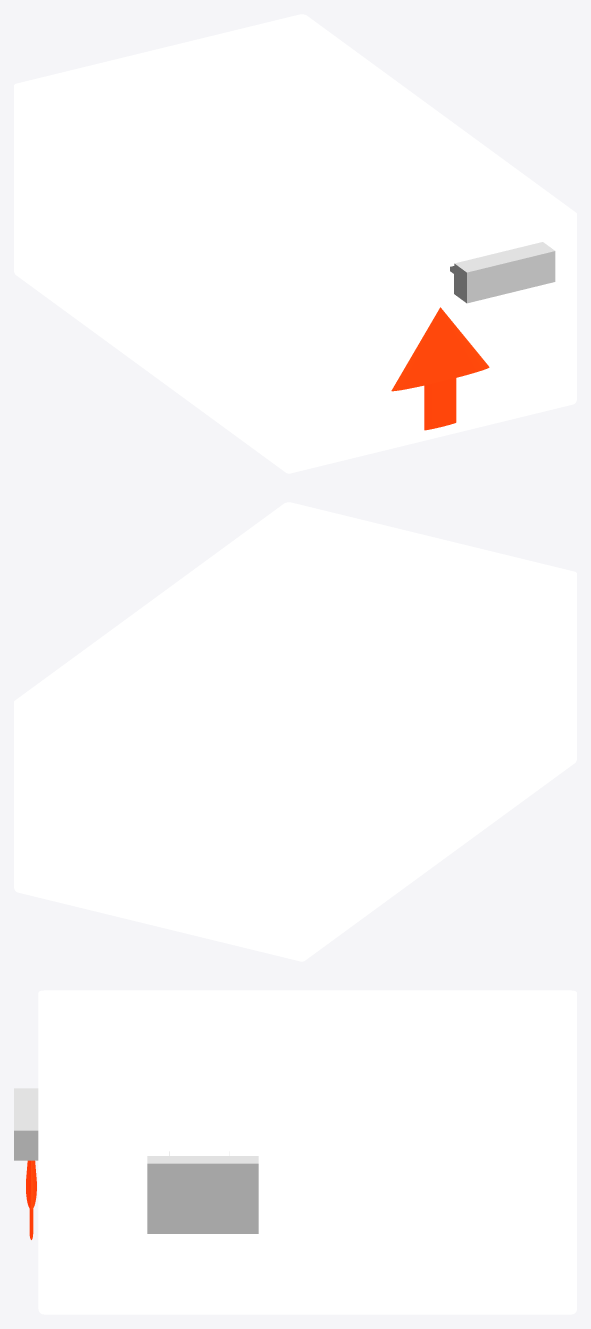
3 renders of one model, top to bottom at view 1: azimuth 30°, elevation 25°; view 2: azimuth 150°, elevation 25°; view 3: azimuth 270°, elevation 25°, orthographic. The views are drawn at different scales.
Parts seen in each view (by area): view 1: box, arrow, usb; view 2: box; view 3: box, switch, usb, arrow.
Part boxes in pixels (x1,y1,x2,y2): box: (14,14,576,473); arrow: (391,307,489,430); usb: (450,242,555,303); box: (14,502,576,961); box: (38,990,576,1314); switch: (147,1151,258,1233); usb: (14,1088,38,1160); arrow: (26,1160,36,1239).
Size of the model in its own units: 31.31 by 18.5 by 50.65.
